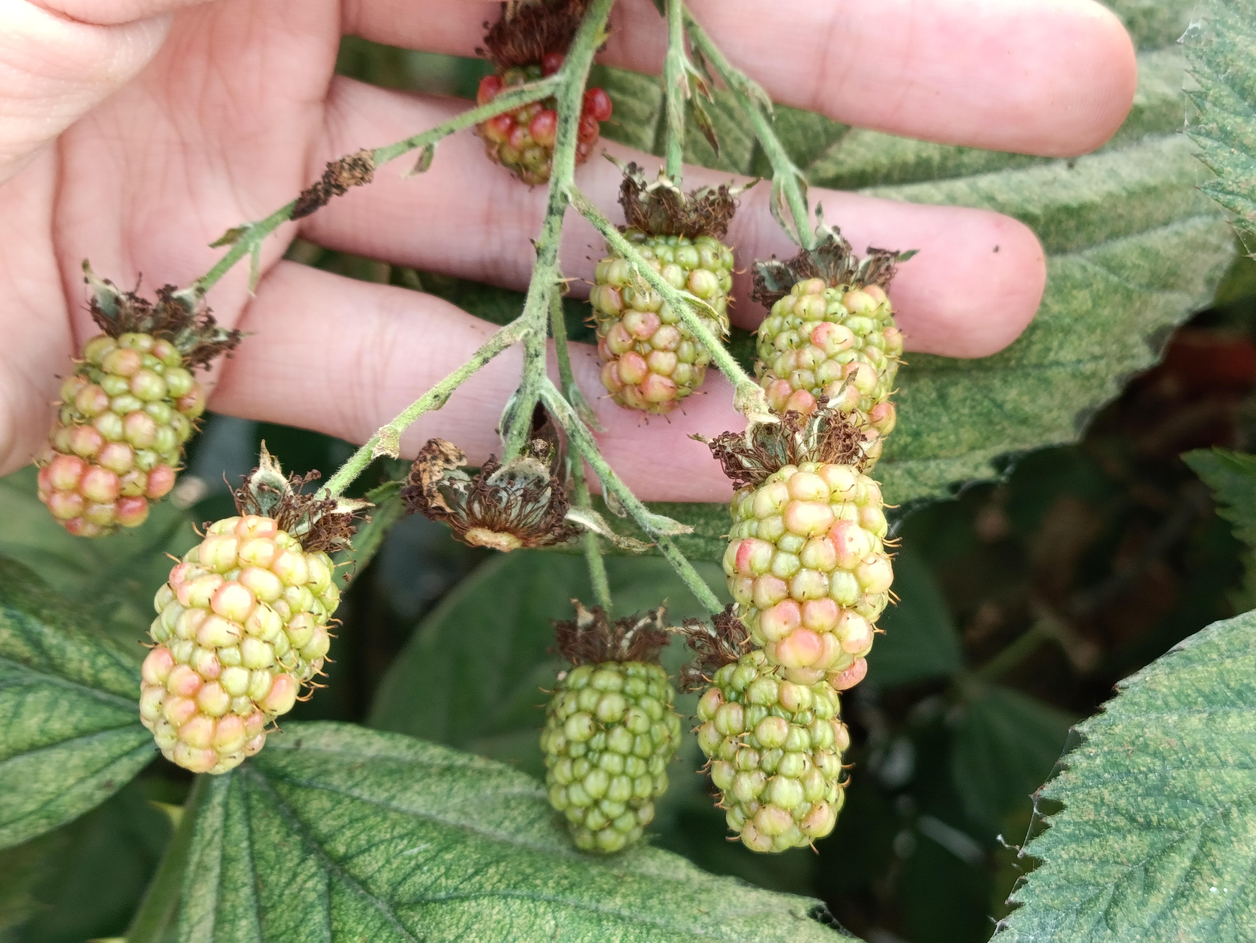verde: (39, 266, 241, 536), (140, 511, 338, 773), (714, 422, 893, 690), (539, 601, 680, 853)
